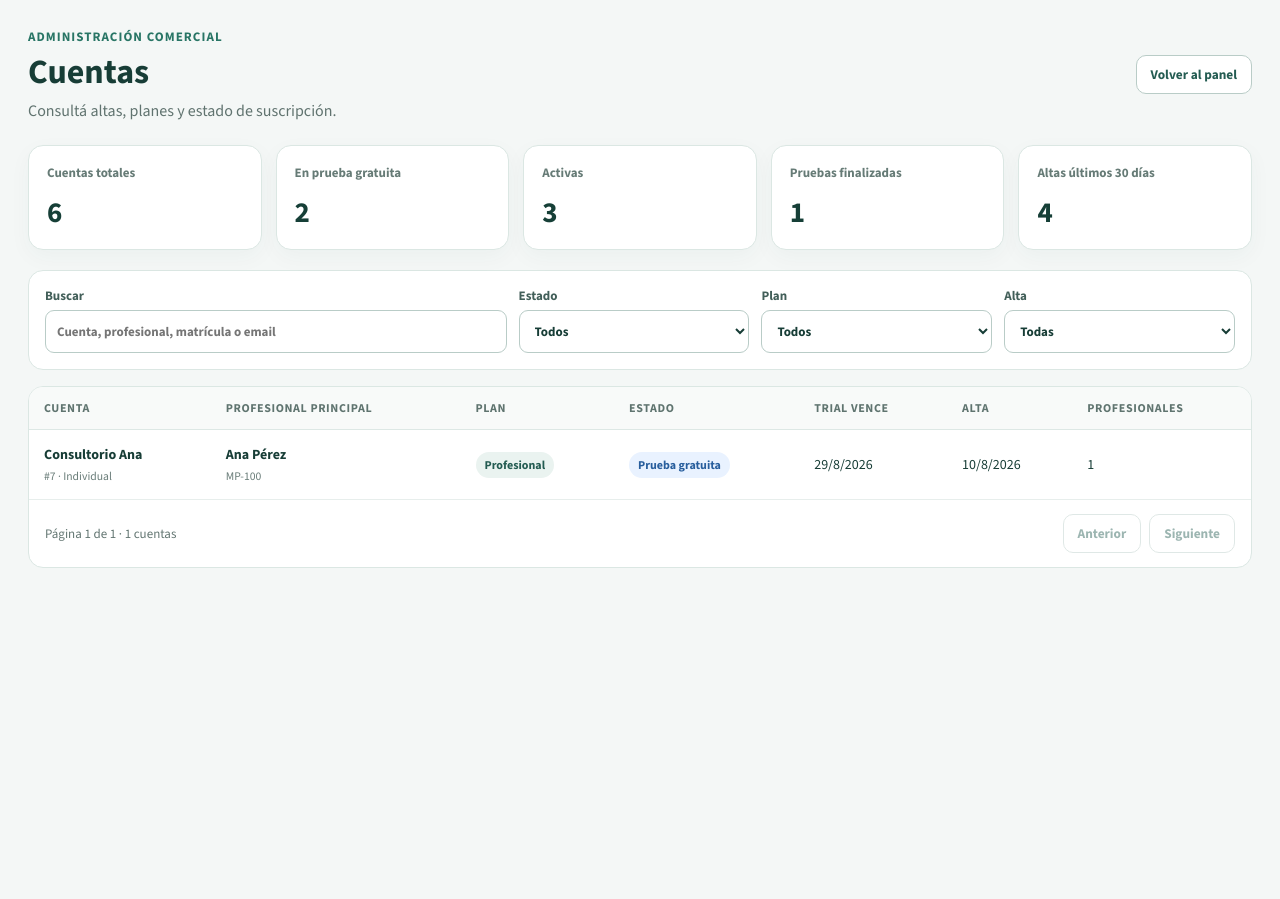
panel administrativo de cuentas › abre y cierra el detalle comercial
What coordinates should you click on to do the following:
click the button "Consultorio Ana"
I would click on:
 (93, 454)
Its box is [44,445,142,464].
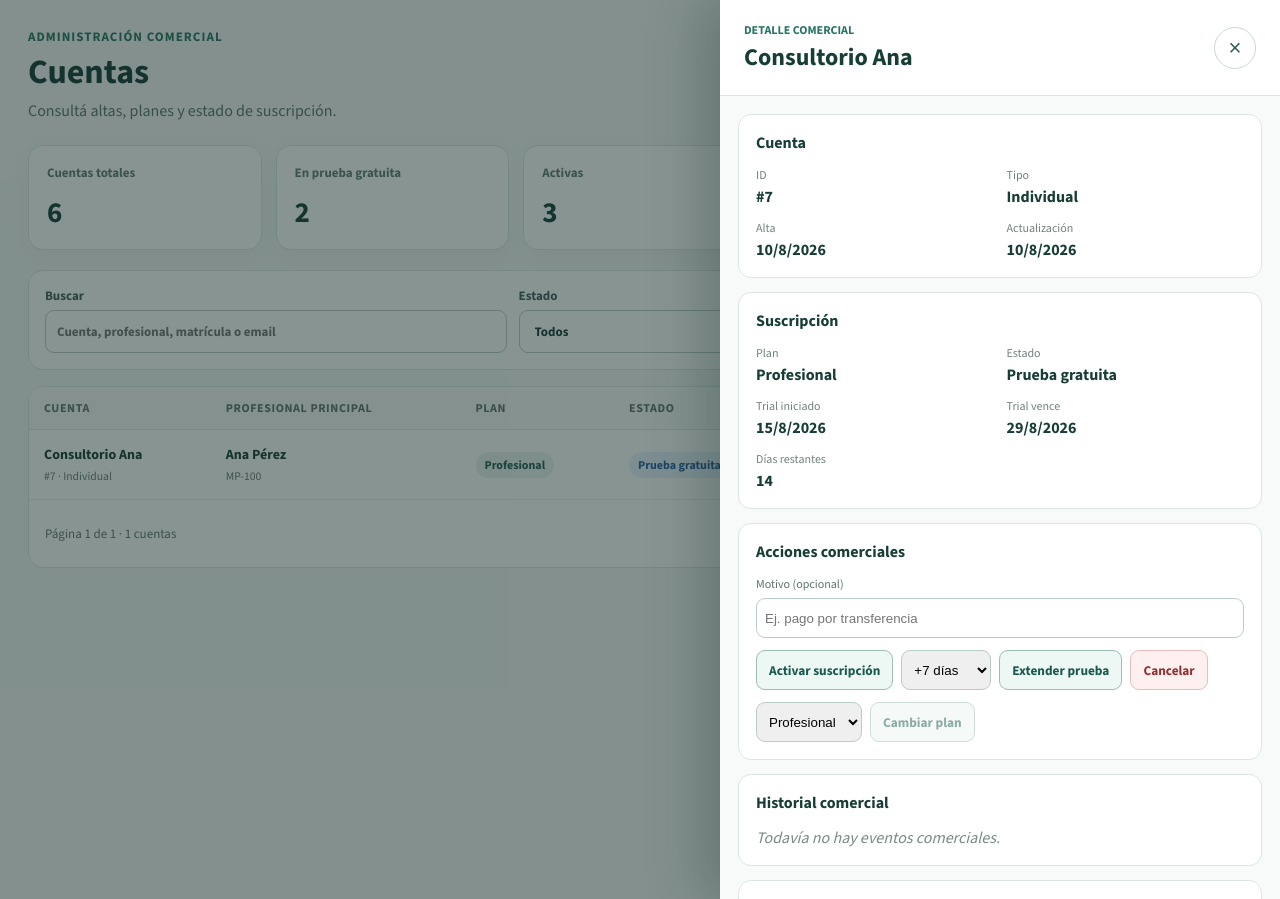
What coordinates should you click on to do the following:
click the button named "Cerrar detalle"
I would click on:
 (1235, 48)
Its box is [1214,26,1256,68].
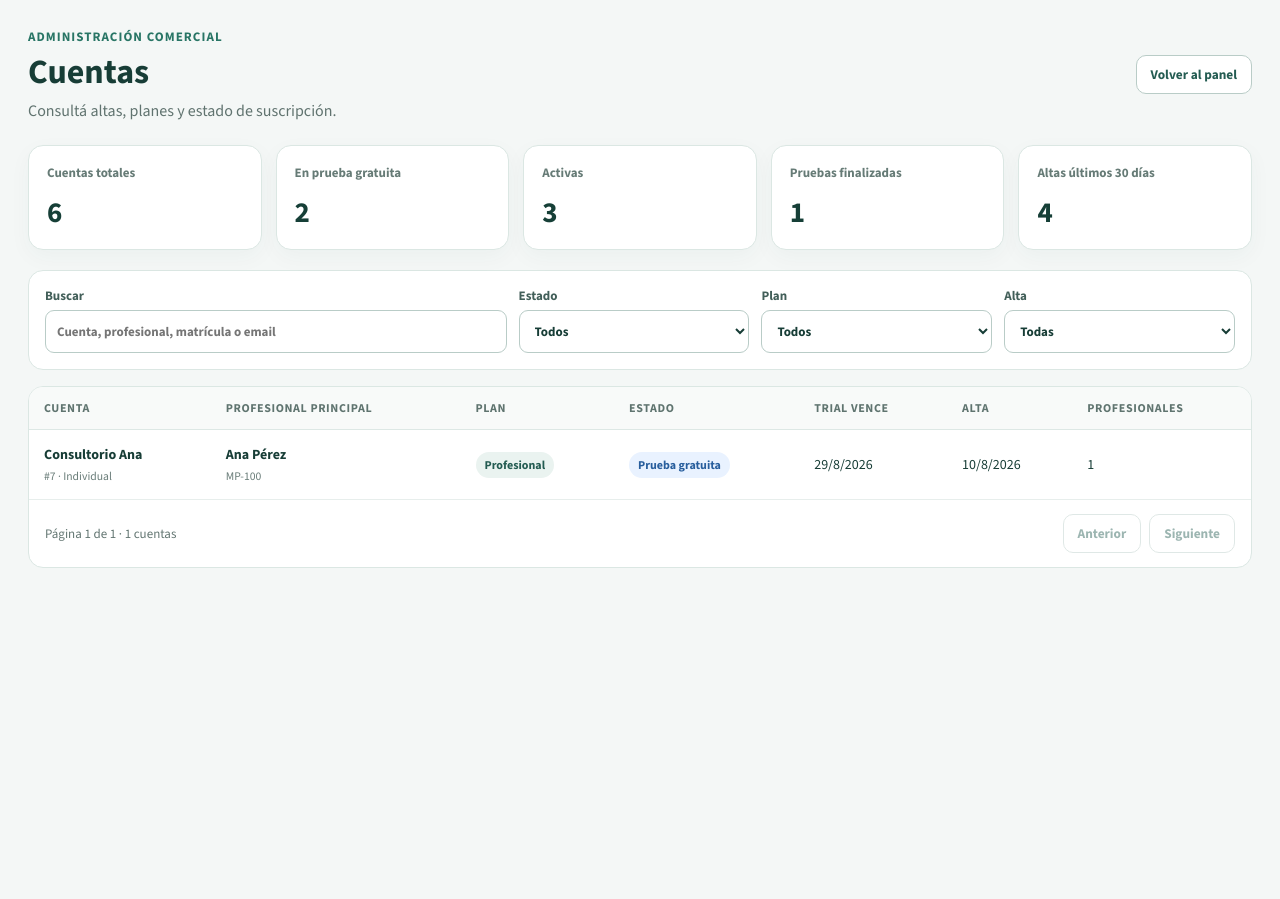
Result: the dialog is gone
